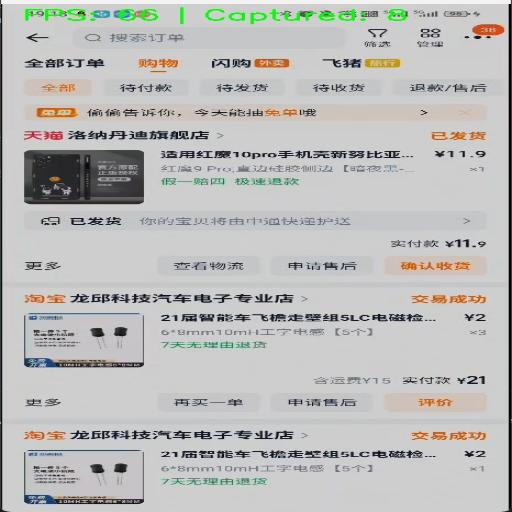back: (18, 26, 54, 45)
butten: (5, 255, 88, 277), (454, 31, 503, 50)
close: (445, 104, 479, 120)
input: (74, 26, 345, 49)
